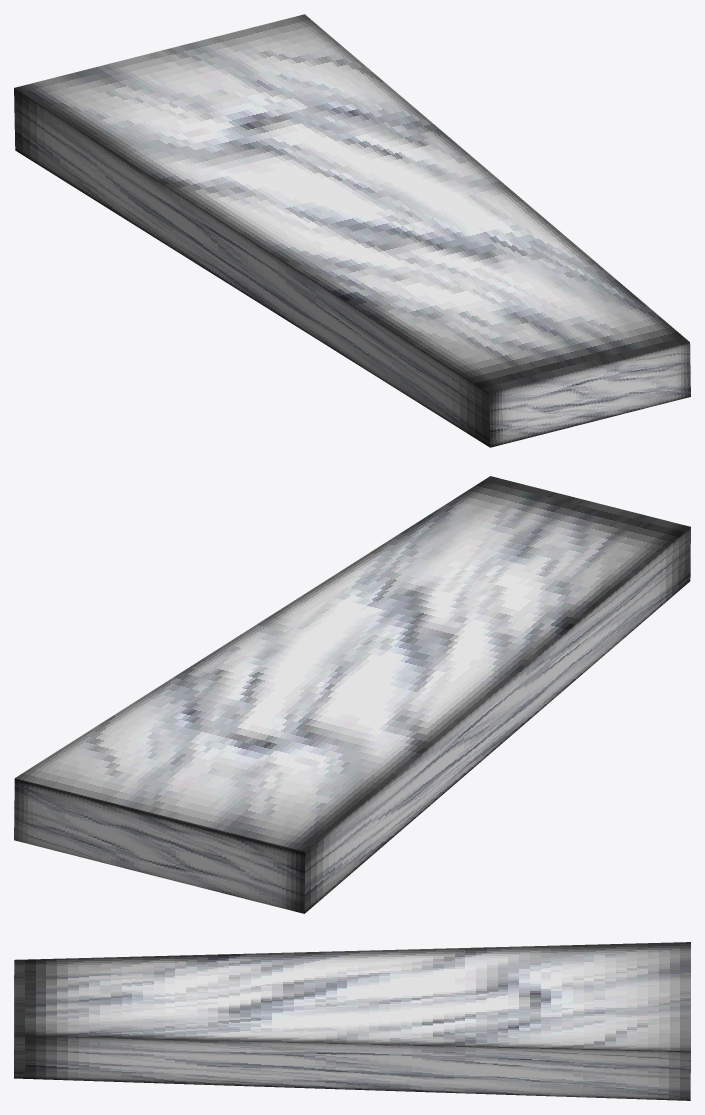
The model's file is tuer_anim_fix [Copy 1]_2797.glb.
3 renders of one model, top to bottom at view 1: azimuth 30°, elevation 25°; view 2: azimuth 150°, elevation 25°; view 3: azimuth 270°, elevation 25°, orthographic. The views are drawn at different scales.
Parts seen in each view (by area): view 1: pCubeShape4; view 2: pCubeShape4; view 3: pCubeShape4.
Part boxes in pixels (x1=…): pCubeShape4: x1=14, y1=14, x2=690, y2=447; pCubeShape4: x1=14, y1=476, x2=690, y2=913; pCubeShape4: x1=14, y1=942, x2=690, y2=1100.
Bounding box in the file's own units: 0.0522 × 0.0112 × 0.1336.
Materials: 1 (1 with a texture image).
